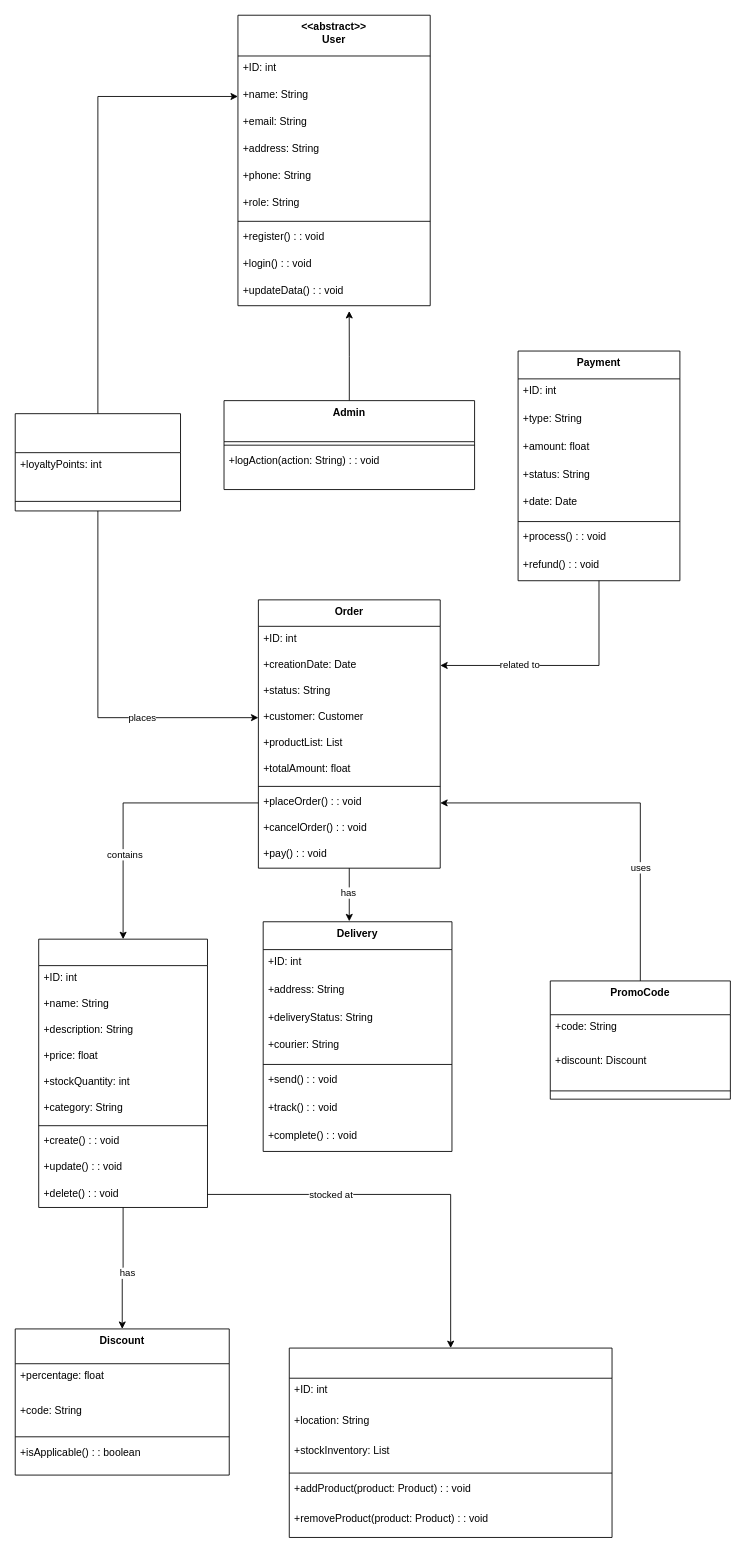
This 746x1556 diagram has some shape labels left out. The box of each missing label's shape, as (x1, y1, x2, y2) in pixels:
Customer: (14, 413, 181, 511)
Product: (38, 938, 207, 1207)
Warehouse: (288, 1347, 612, 1537)
